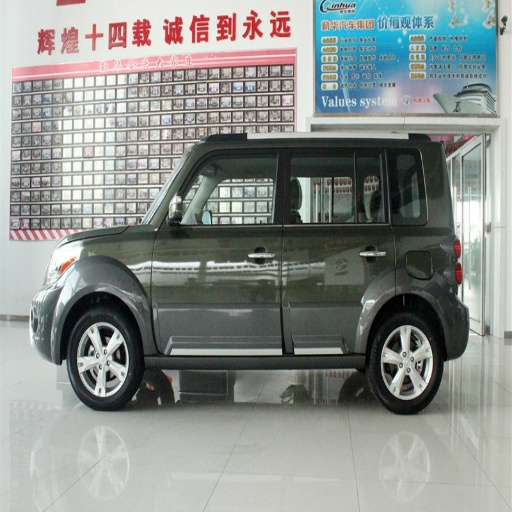back_left_door: (288, 145, 395, 349)
front_left_door: (151, 147, 287, 350)
